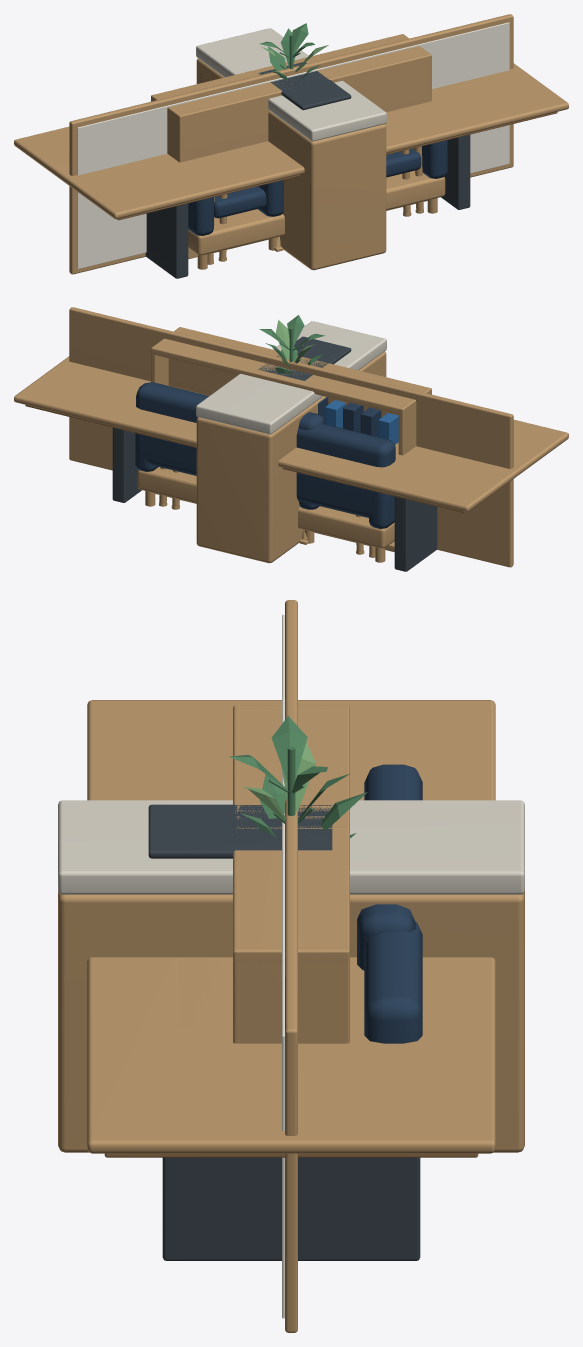
The model's file is studio-furniture.glb.
3 views of the same model, one above another, from view 1: azimuth 30°, elevation 25°; view 2: azimuth 150°, elevation 25°; view 3: azimuth 270°, elevation 25° (orthographic). The views are drawn at different scales.
Parts seen in each view (by area): view 1: ReviewTable_360x140, CoffeeCabinet, ProjectBoard, LowShelf_200x040, Sofa2, Desk_180x080, Plant, Desk_160x080, ClientArmchair; view 2: ReviewTable_360x140, CoffeeCabinet, ProjectBoard, Sofa2, LowShelf_200x040, Plant, ClientArmchair; view 3: ReviewTable_360x140, CoffeeCabinet, LowShelf_200x040, ProjectBoard, Sofa2, Plant, Desk_180x080, ClientArmchair.
Boxes of the visible parts, x1,y1,x2,y2 form: ReviewTable_360x140: [14, 63, 568, 278]; CoffeeCabinet: [196, 28, 386, 270]; ProjectBoard: [69, 14, 513, 274]; LowShelf_200x040: [151, 34, 431, 258]; Sofa2: [188, 140, 447, 269]; Desk_180x080: [195, 104, 429, 264]; Plant: [259, 23, 328, 80]; Desk_160x080: [213, 108, 417, 261]; ClientArmchair: [258, 180, 283, 250]; ReviewTable_360x140: [14, 356, 568, 571]; CoffeeCabinet: [196, 321, 386, 563]; ProjectBoard: [69, 307, 513, 567]; Sofa2: [135, 382, 395, 562]; LowShelf_200x040: [151, 327, 431, 551]; Plant: [259, 315, 325, 381]; ClientArmchair: [298, 412, 324, 543]; ReviewTable_360x140: [87, 700, 495, 1260]; CoffeeCabinet: [58, 800, 524, 1152]; LowShelf_200x040: [233, 705, 349, 1043]; ProjectBoard: [282, 600, 297, 1332]; Sofa2: [364, 764, 422, 1043]; Plant: [229, 716, 367, 838]; Desk_180x080: [179, 957, 364, 1028]; ClientArmchair: [357, 904, 415, 970].
Size of the model in its own units: 3.6 by 1.4 by 1.6.
